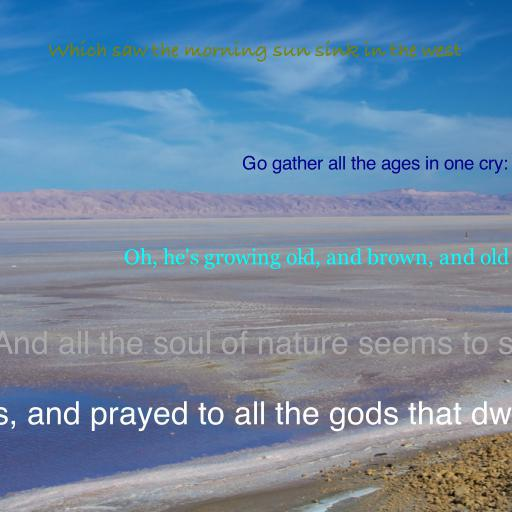Apple Chancery: (0, 401, 512, 432)
Bradley Hand: (48, 40, 462, 62)
Georgia: (123, 248, 509, 269)
Helvetica: (242, 155, 508, 174)
SF Pro: (0, 330, 512, 355)
